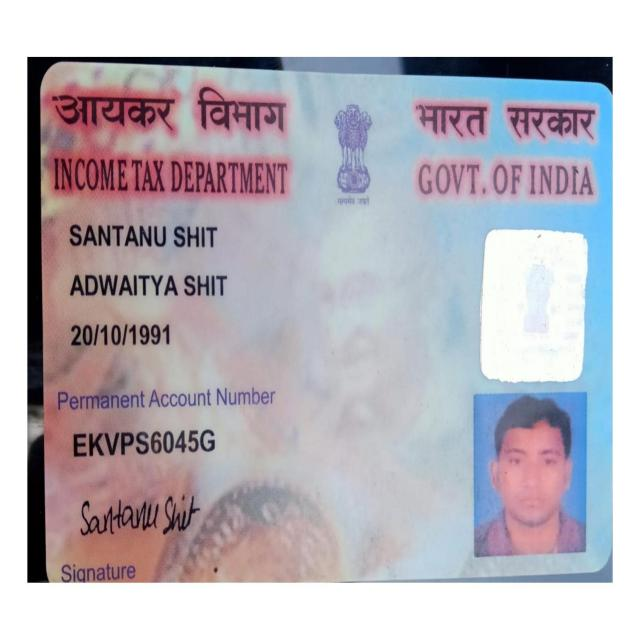pan_card: (47, 79, 608, 584)
